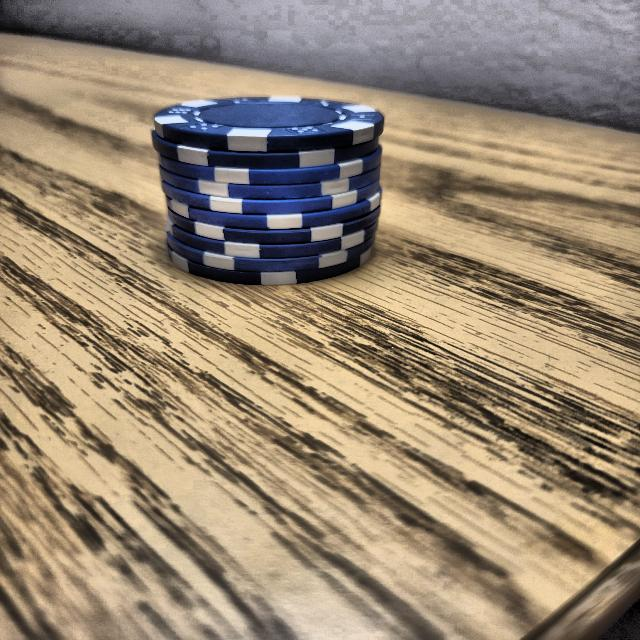Chip: (145, 80, 392, 288)
